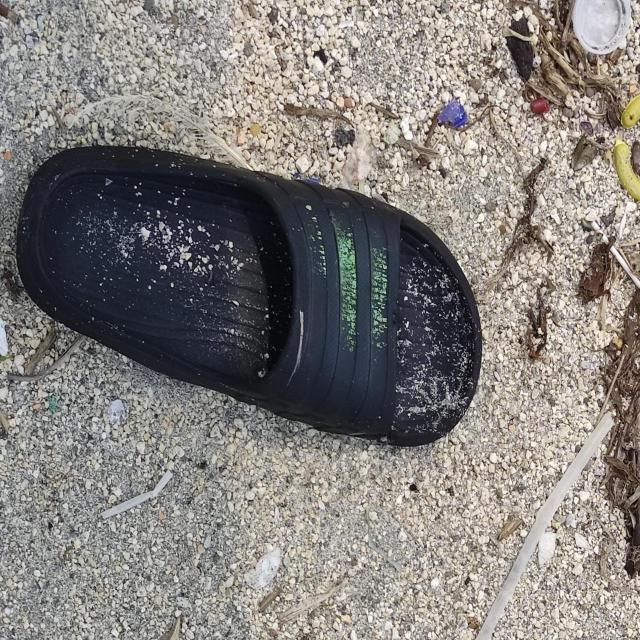plastic_waste: (477, 411, 617, 640), (101, 469, 175, 521), (572, 1, 632, 56)
rubber_waste: (14, 142, 484, 449)
